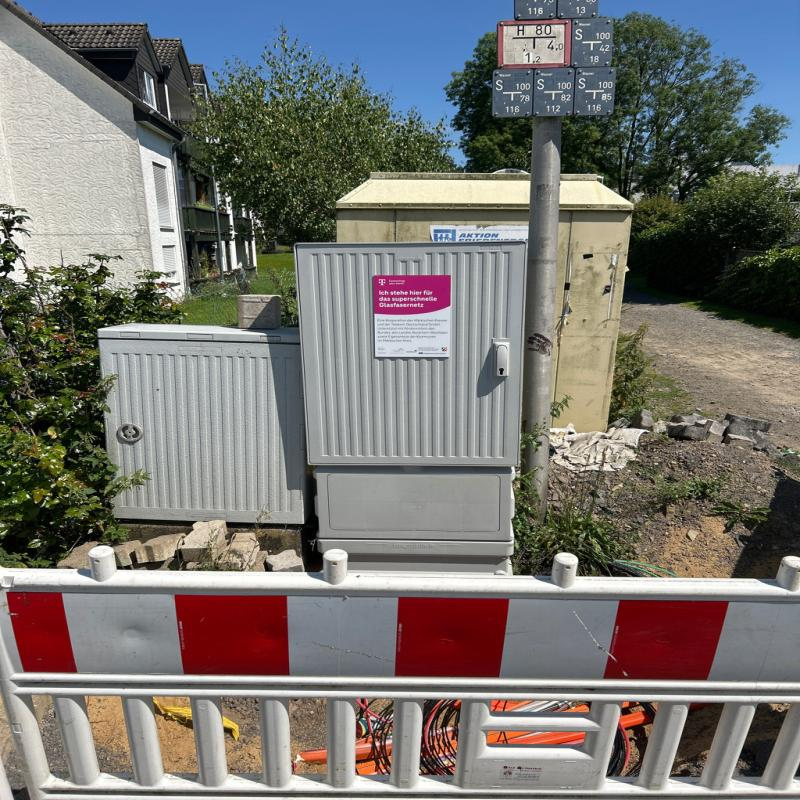NT-Gehause: (294, 240, 522, 545)
Steaker: (373, 275, 450, 357)
